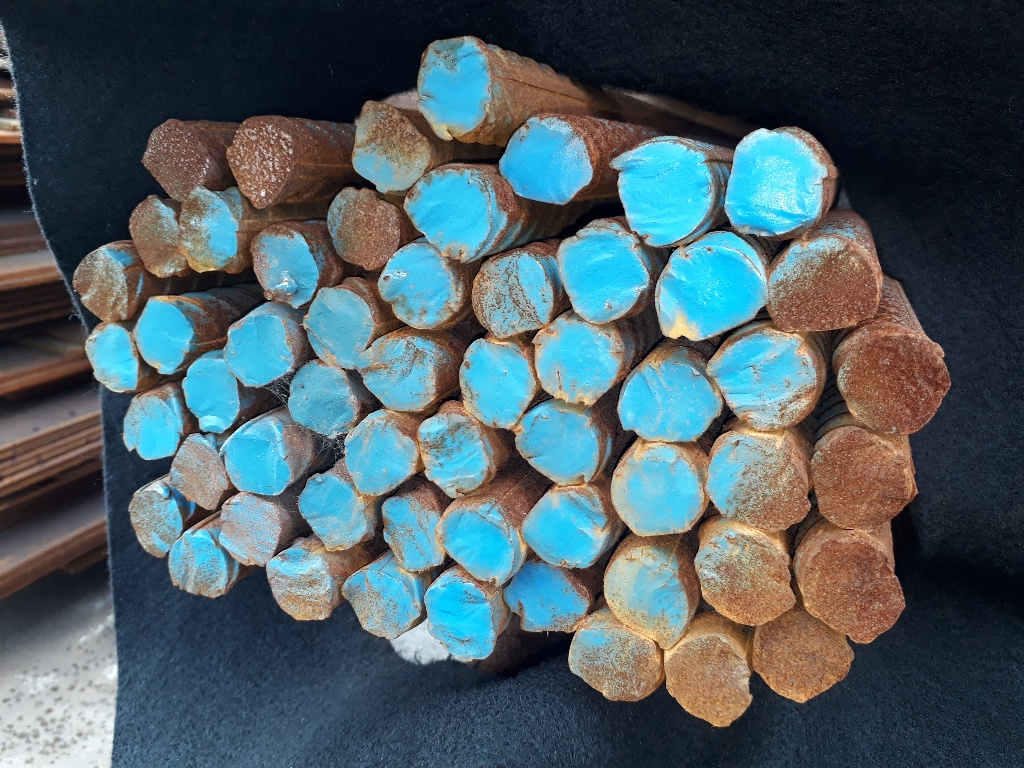dipstick: (840, 340, 951, 432), (706, 436, 813, 530), (724, 131, 821, 232), (805, 542, 905, 639), (719, 334, 819, 429), (657, 250, 768, 335), (815, 435, 916, 526), (767, 244, 876, 328), (621, 148, 715, 244), (696, 532, 792, 621), (611, 447, 702, 536), (755, 620, 858, 698), (408, 168, 496, 257), (500, 117, 592, 201), (558, 235, 648, 320), (668, 638, 752, 726), (419, 38, 493, 135), (471, 253, 554, 336), (606, 557, 688, 640), (534, 323, 620, 402), (353, 101, 428, 189), (572, 629, 661, 700), (463, 340, 534, 429), (517, 410, 600, 485), (525, 489, 605, 564), (387, 245, 458, 328), (418, 415, 491, 494), (346, 415, 416, 497), (329, 188, 401, 266), (231, 120, 294, 207), (367, 332, 437, 409), (445, 510, 518, 583), (250, 225, 316, 305), (508, 570, 590, 632), (346, 570, 419, 639), (299, 473, 364, 548), (179, 189, 237, 273), (147, 118, 209, 195), (428, 582, 495, 653), (228, 313, 293, 385), (307, 291, 371, 364), (383, 496, 445, 570), (269, 552, 331, 622), (71, 247, 129, 320), (182, 362, 239, 436), (225, 431, 290, 495), (291, 366, 351, 432), (131, 194, 178, 278), (137, 299, 190, 373), (221, 498, 278, 566), (175, 433, 227, 507), (123, 394, 181, 457), (84, 326, 137, 391), (170, 537, 225, 597), (131, 491, 180, 555)
